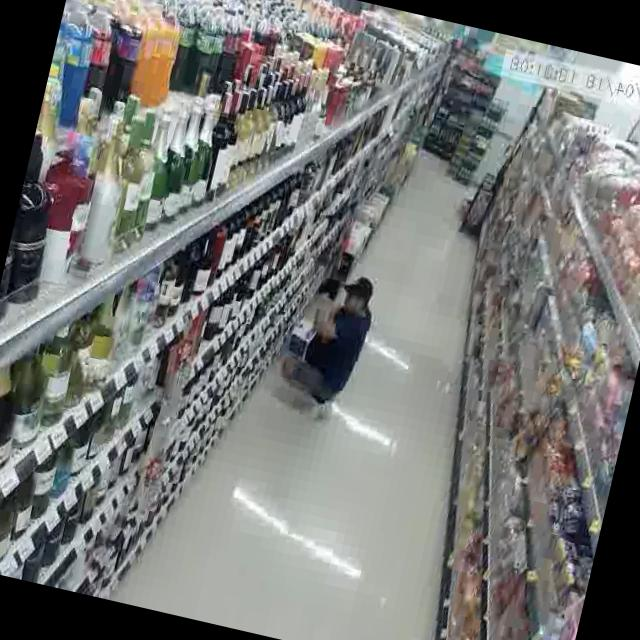shoplifting: (258, 248, 392, 438)
